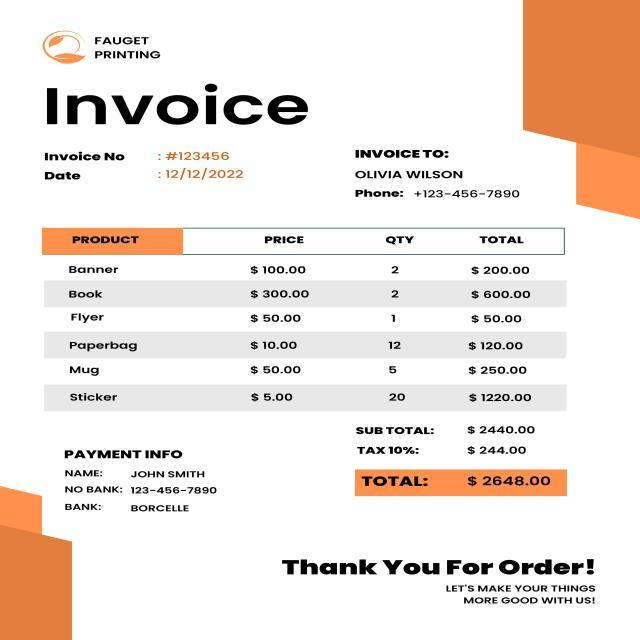ROI: (49, 225, 540, 408), (276, 552, 605, 611), (350, 417, 555, 492), (39, 76, 312, 129), (59, 442, 222, 518), (350, 145, 523, 203), (38, 145, 248, 183), (90, 30, 165, 65)
